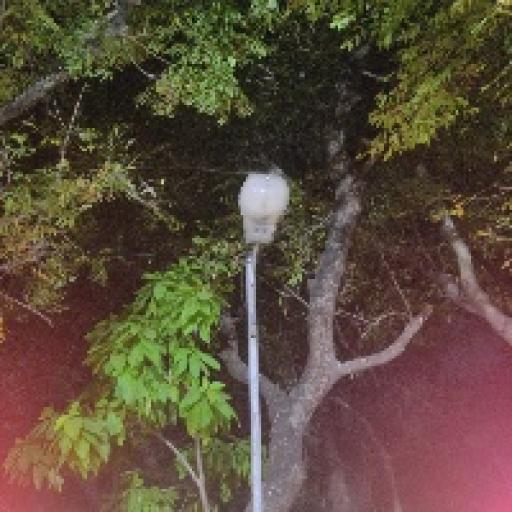Not Working: (228, 163, 298, 270)
